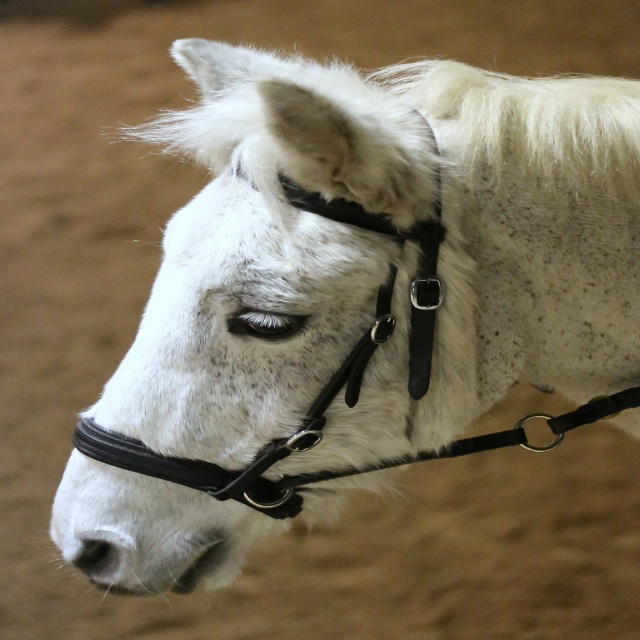Horse: (44, 35, 639, 594)
